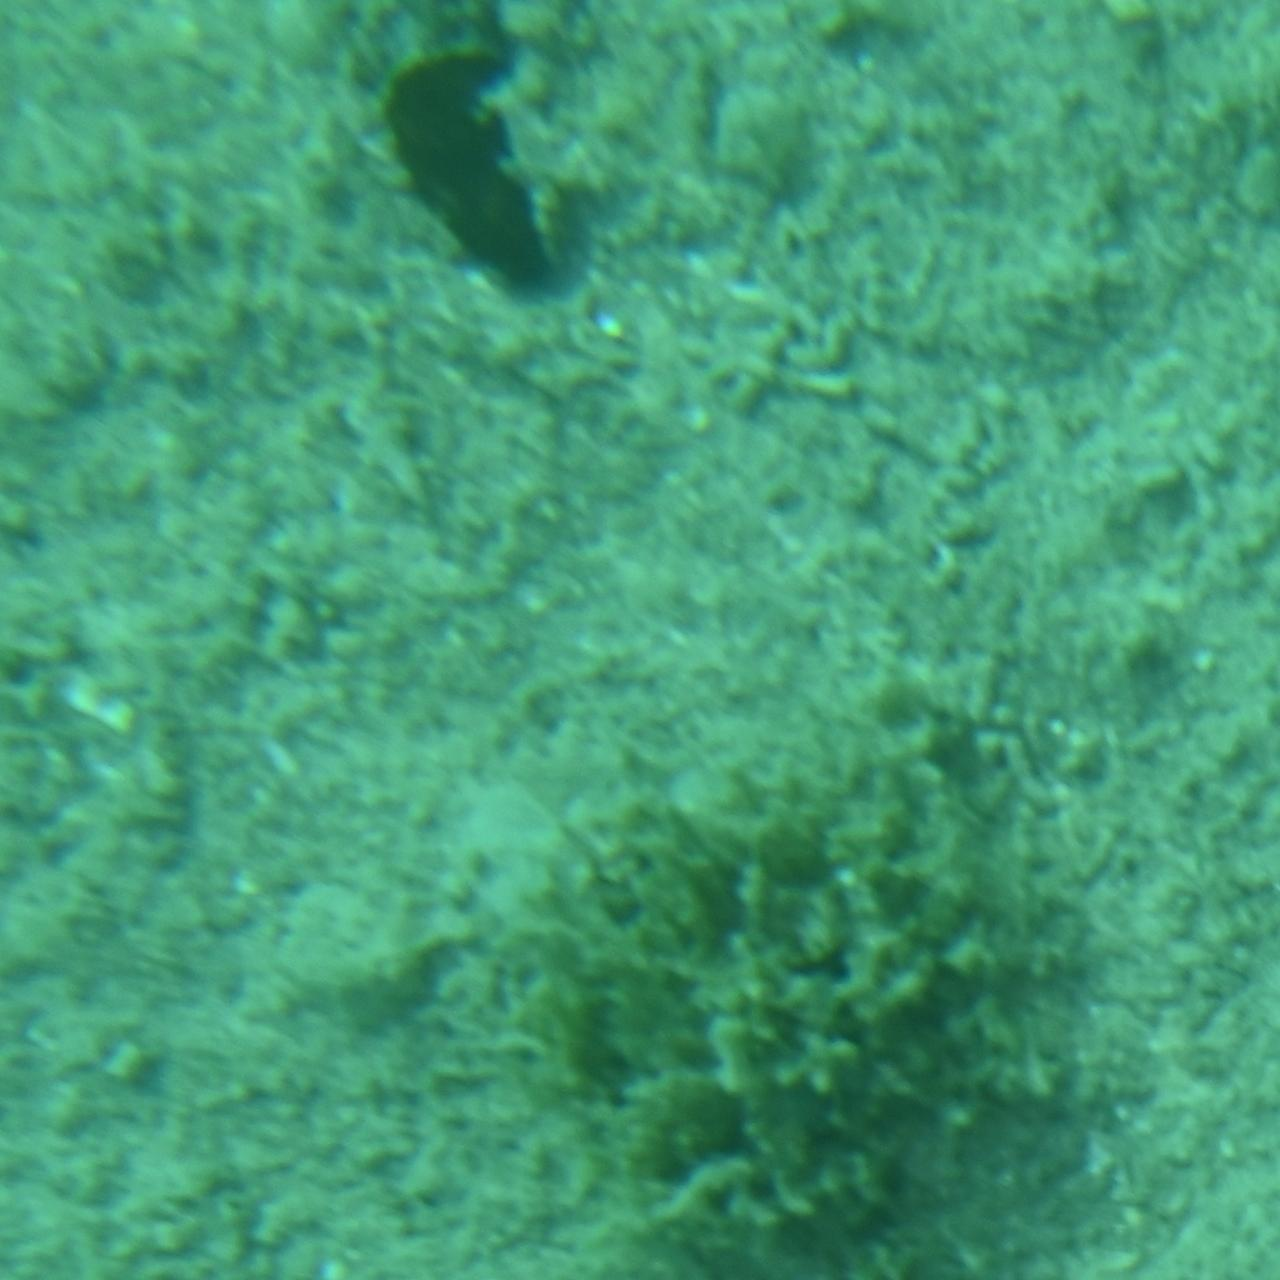Holothuria tubulosa: (374, 19, 580, 290)
Phaeophyceae -cfr Cystoseira-: (511, 708, 1096, 1280)
